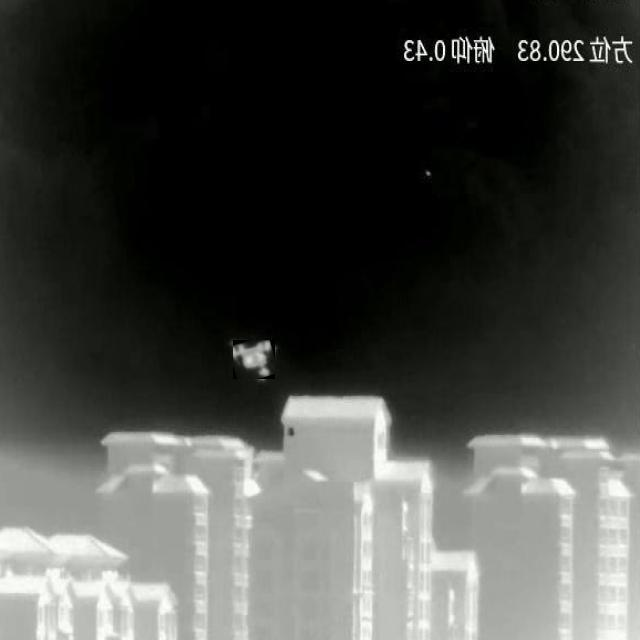drone: (233, 341, 273, 377)
